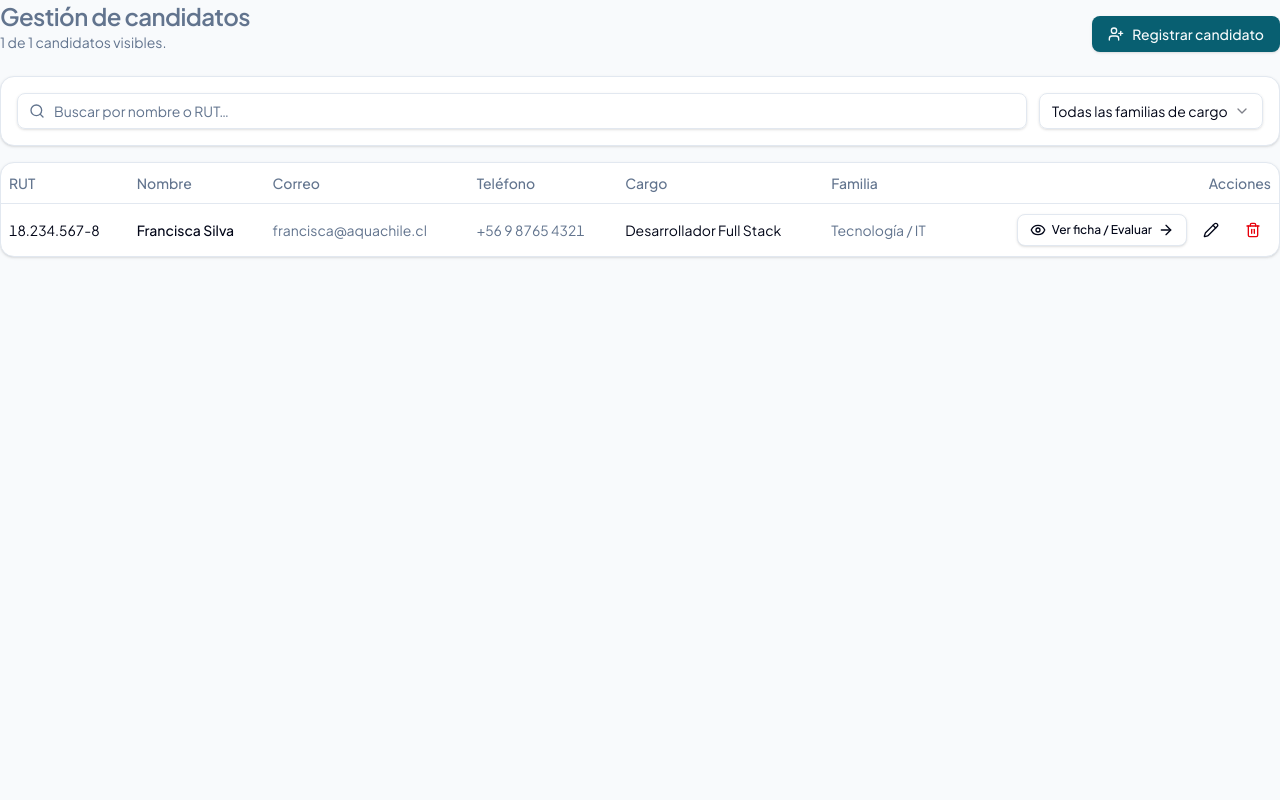
Scenario: CandidatosPage.jsx - Eliminación unificada con modal interno › abre modal interno de confirmación al hacer clic en eliminar y ejecuta eliminación
The image size is (1280, 800).
Later steps or results of the test are not shown.
Expected: the text "Francisca Silva" is shown, [129,203,265,256]
# Clic en botón Eliminar de la fila
Click the button named "Eliminar": (1253, 230) [1235,212,1271,248]
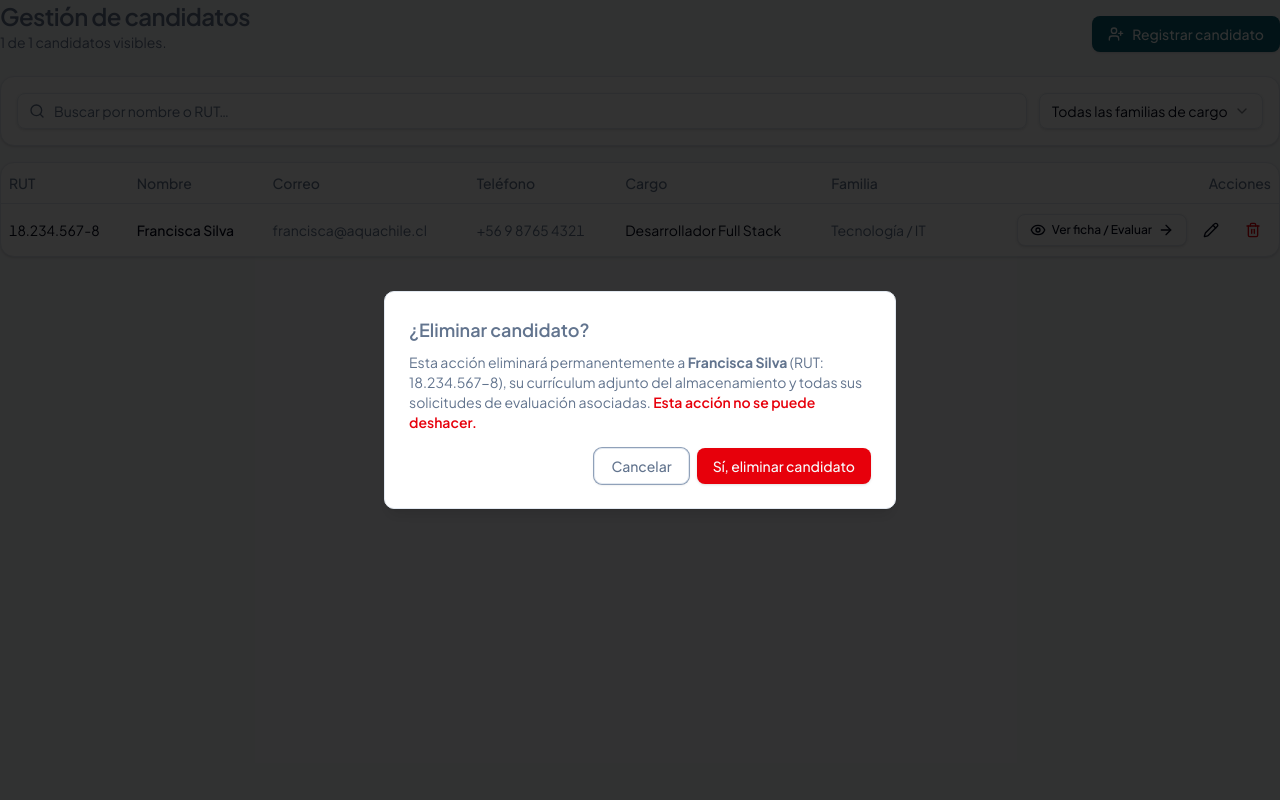
Expected: the heading "¿Eliminar candidato?" is shown, [409,318,590,341]
Expected: the dialog shows "Francisca Silva", [688,353,788,371]
Expected: the dialog shows "18.234.567-8", [409,353,824,391]
